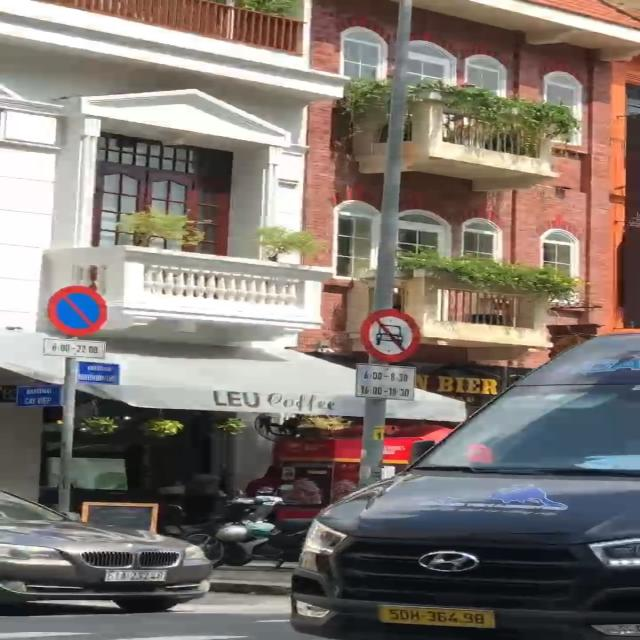Bien bao cam do xe: (46, 285, 118, 341)
Bien bao cam xe oto: (353, 306, 423, 363)
